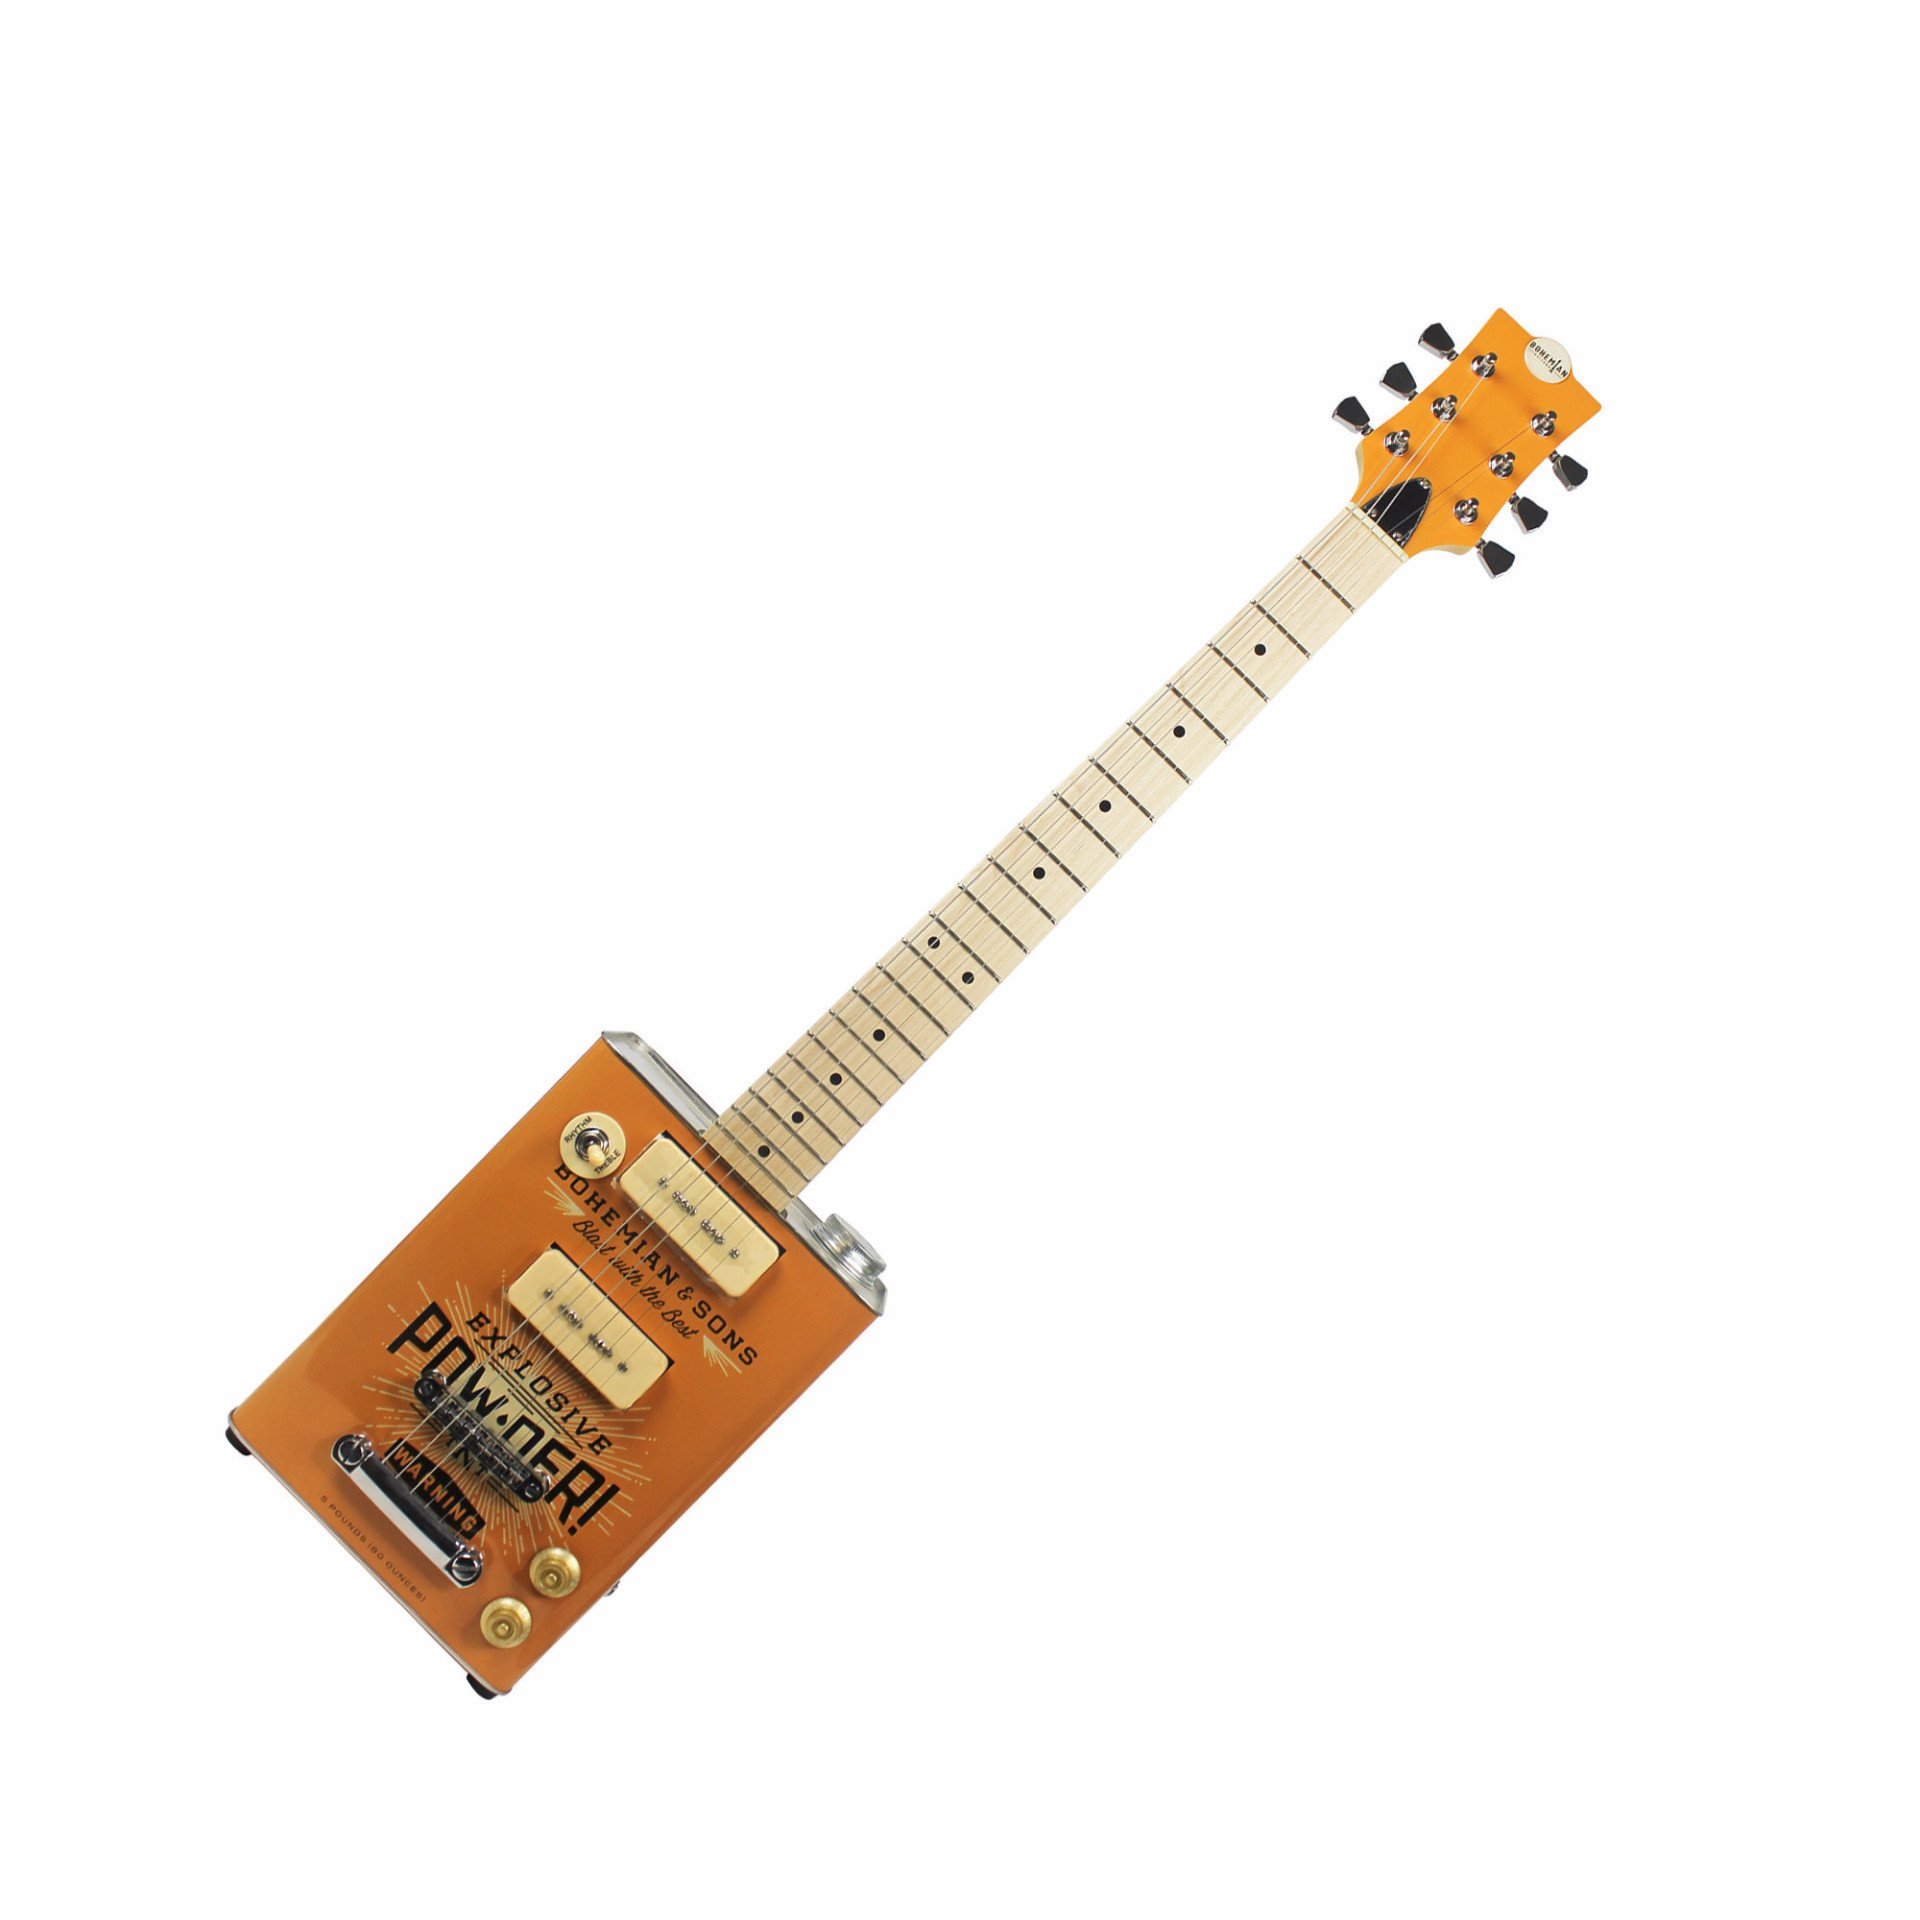ElectricGuitar: (207, 294, 1609, 1693)
